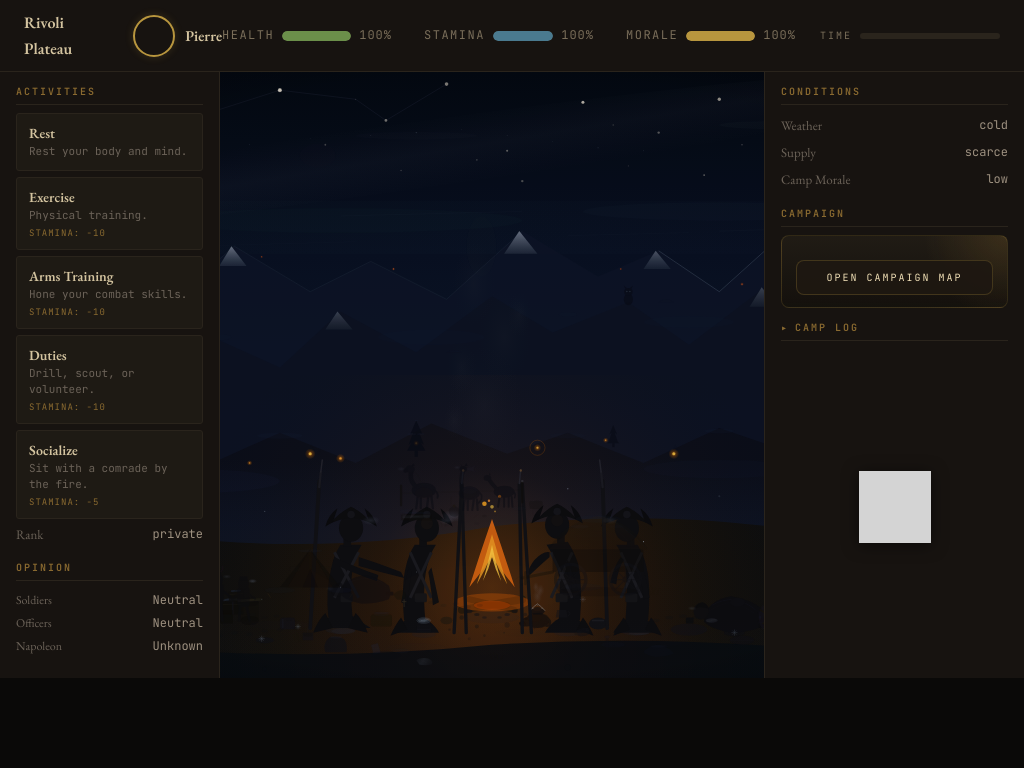
Test case: CampPage › switches from Character panel to Inventory panel via View Inventory button
Note: Open Character panel
What coordinates should you click on to do the following:
click the text "Pierre"
I would click on:
 (178, 36)
Its box is left=133, top=15, right=222, bottom=57.
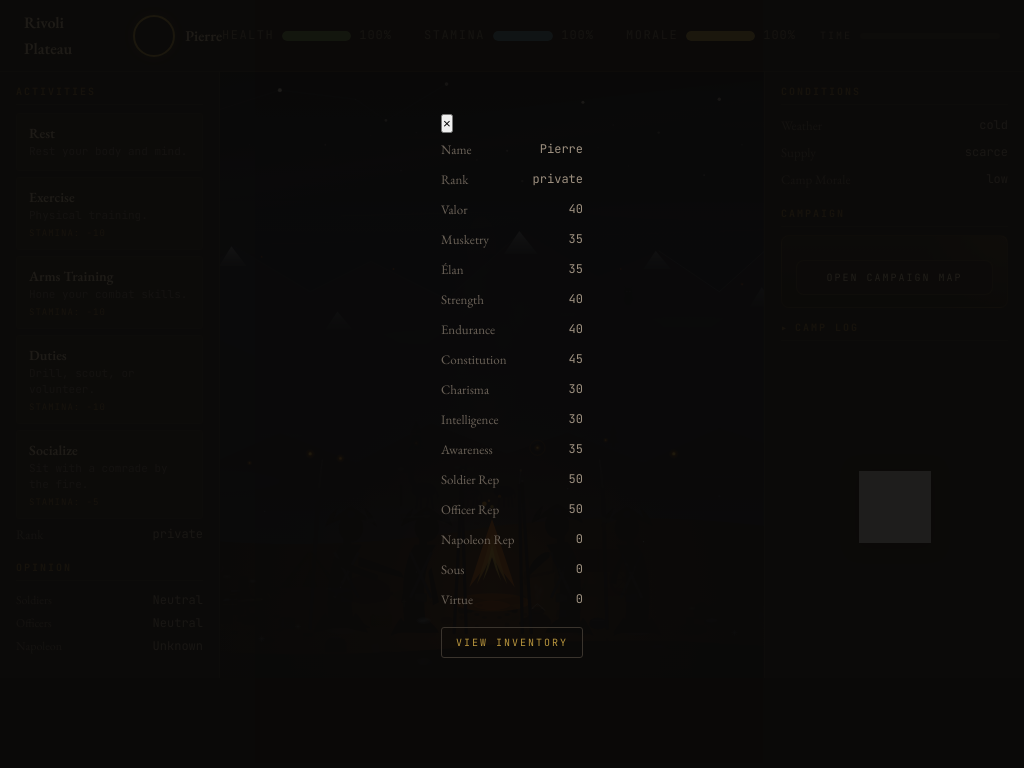
Note: Click View Inventory button
What coordinates should you click on to do the following:
click the button "View Inventory"
I would click on:
 (512, 643)
Its box is left=441, top=627, right=583, bottom=658.
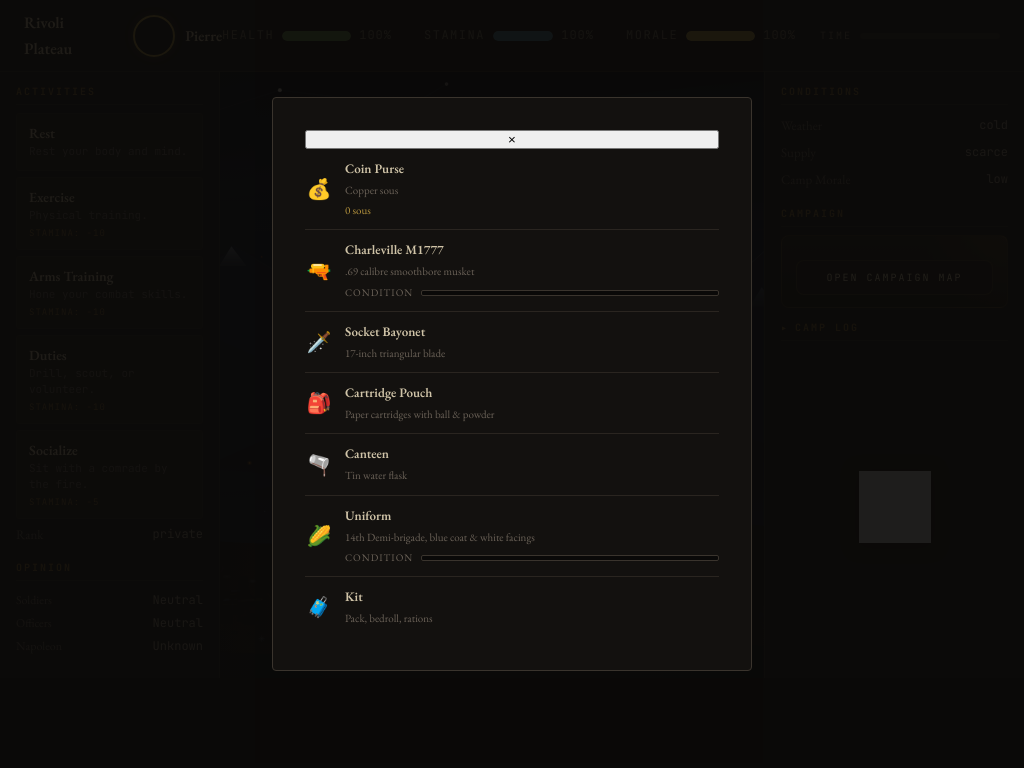
Check: the button "View Inventory" is gone
Check: the text "Charleville M1777" is shown, box left=345, top=241, right=444, bottom=258
